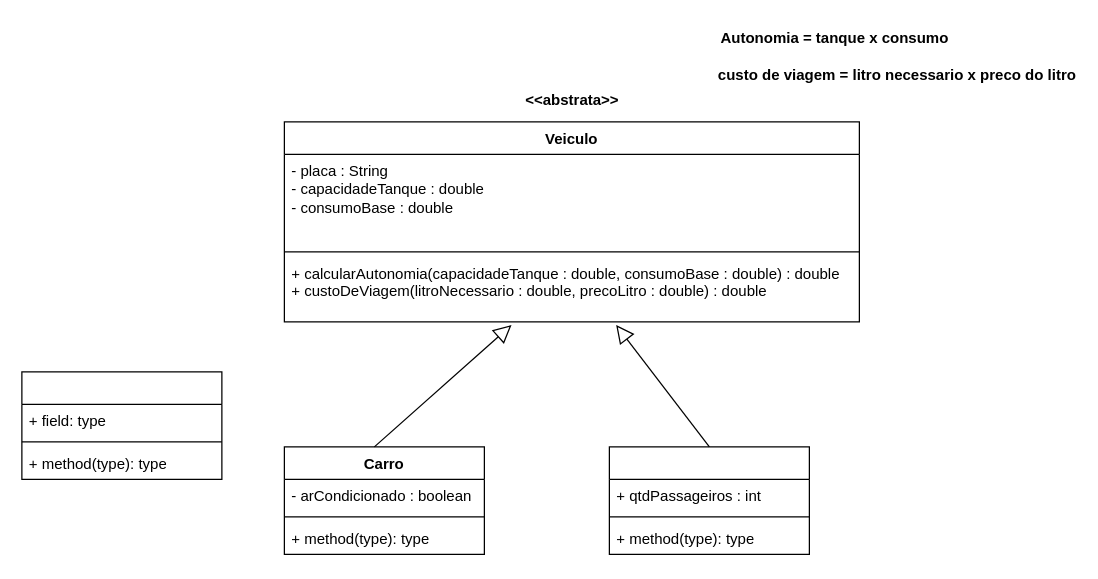
The diagram is 1098 pixels wide and 579 high, and some of its shapes have lost their labels. The box of each missing label's shape, as (x1, y1, x2, y2) in pixels:
Classname: (21, 371, 222, 479)
Onibus: (608, 446, 809, 554)
